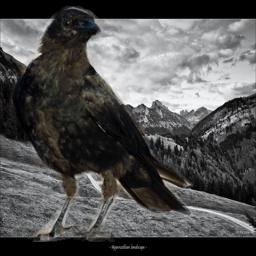Crow: (9, 6, 193, 242)
